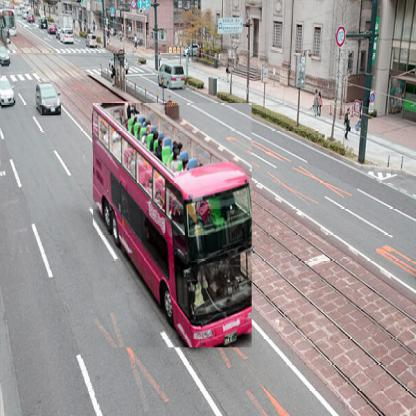bus: (93, 104, 253, 349), (2, 11, 18, 39)
car: (36, 83, 62, 118), (159, 62, 188, 91), (2, 75, 15, 112), (2, 46, 10, 71)
